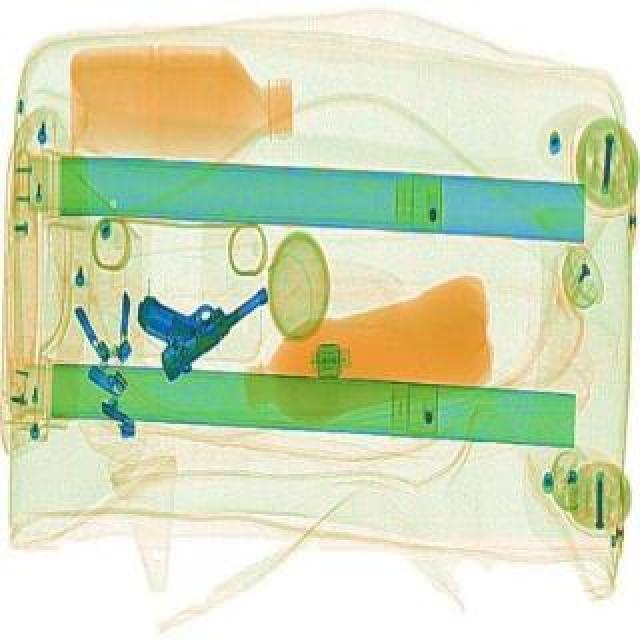gun: (112, 238, 282, 386)
